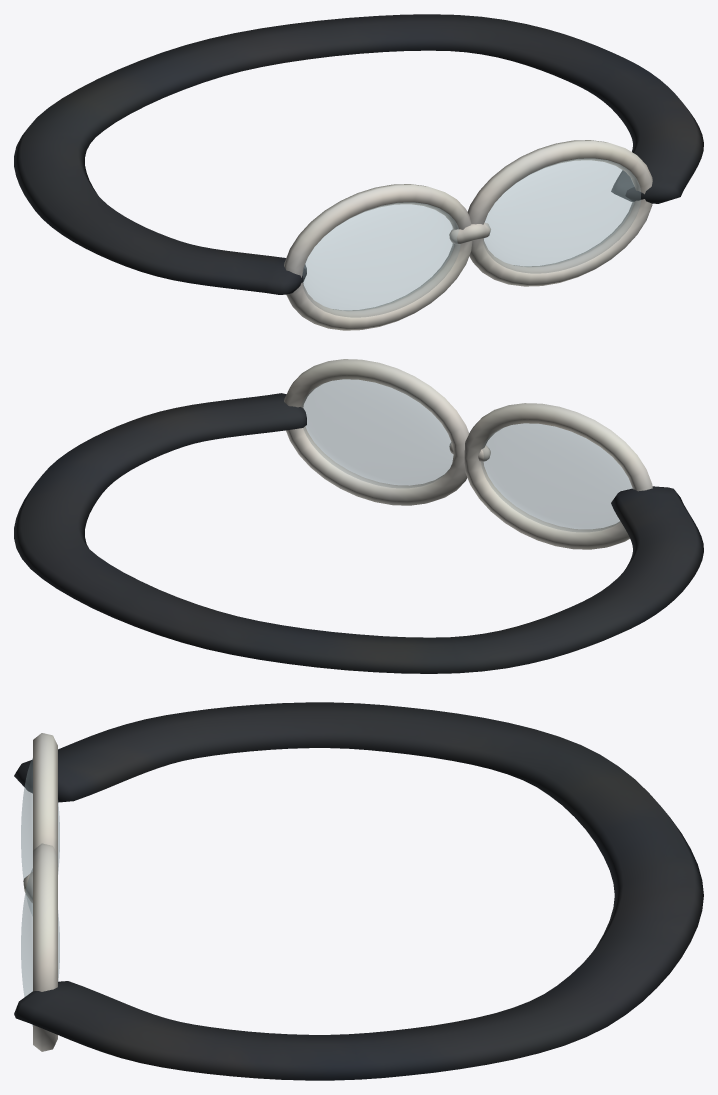
File: safety-goggles.glb
The picture shows the model from 3 angles, top to bottom: view 1: azimuth 30°, elevation 25°; view 2: azimuth 150°, elevation 25°; view 3: azimuth 270°, elevation 25°; orthographic projection. The views are drawn at different scales.
Parts seen in each view (by area): view 1: safety-goggles-strap, safety-goggles-lenses, safety-goggles-frame; view 2: safety-goggles-strap, safety-goggles-lenses, safety-goggles-frame; view 3: safety-goggles-strap, safety-goggles-frame, safety-goggles-lenses.
Boxes of the visible parts, x1=… form: safety-goggles-strap: x1=14, y1=14, x2=703, y2=294; safety-goggles-lenses: x1=302, y1=158, x2=640, y2=317; safety-goggles-frame: x1=284, y1=140, x2=652, y2=330; safety-goggles-strap: x1=14, y1=393, x2=703, y2=673; safety-goggles-lenses: x1=301, y1=379, x2=632, y2=531; safety-goggles-frame: x1=284, y1=359, x2=652, y2=549; safety-goggles-strap: x1=14, y1=702, x2=703, y2=1080; safety-goggles-frame: x1=23, y1=733, x2=57, y2=1051; safety-goggles-lenses: x1=21, y1=758, x2=59, y2=1026.
Size of what is drawn, in the model's own units: 20.09 by 4.39 by 15.83.
